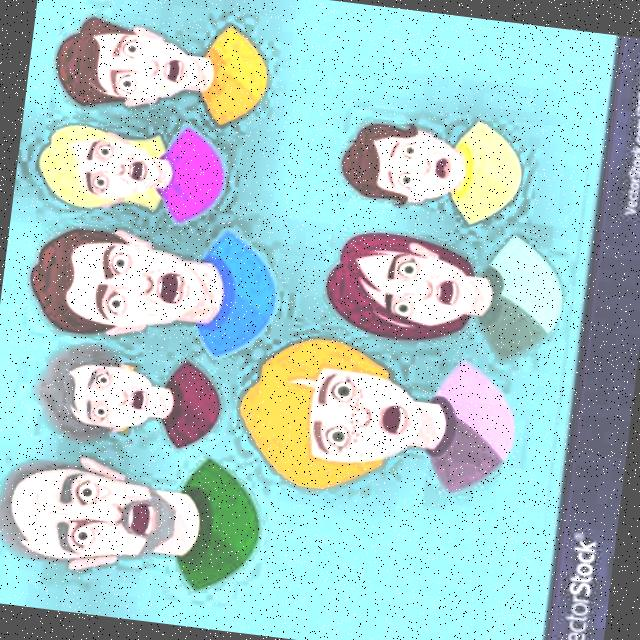fear: (241, 340, 444, 509), (0, 448, 185, 593), (24, 220, 209, 346), (330, 219, 497, 349), (40, 117, 190, 222), (27, 334, 162, 449), (339, 110, 473, 214)
